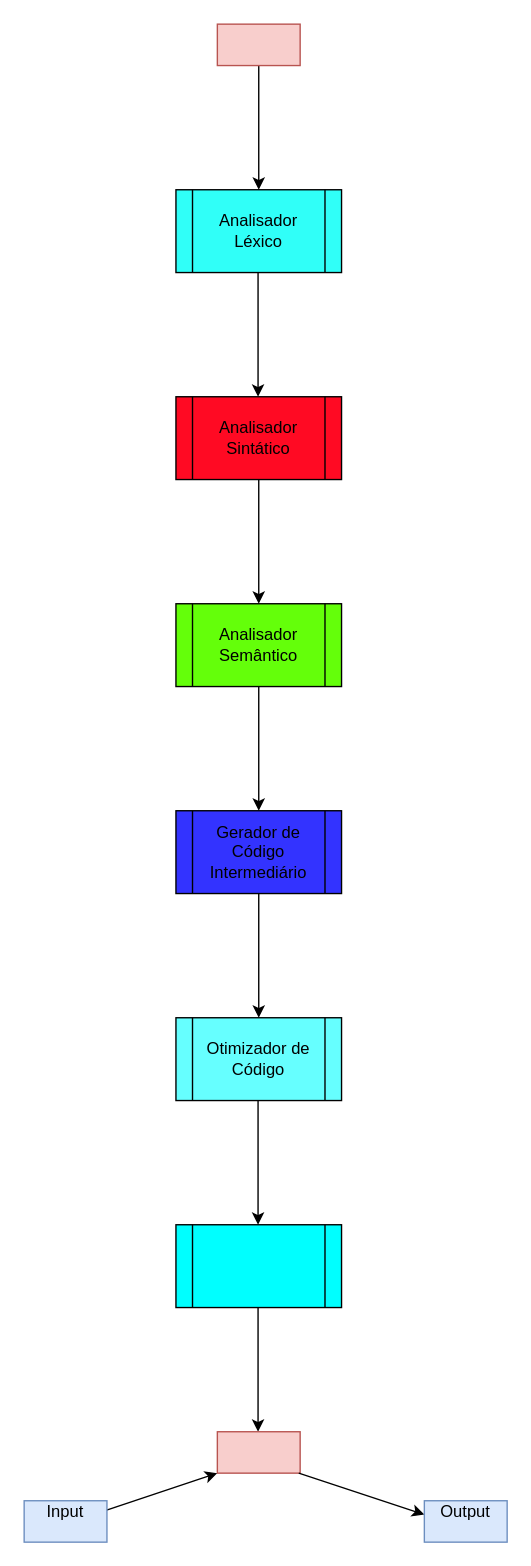
The diagram is 531 pixels wide and 1566 high, and some of its shapes have lost their labels. Here are the shapes that lost their labels. From the top down, the box of each, then its label:
(216, 23, 300, 66): Código fonte
(175, 1223, 342, 1308): Gerador de Código
(216, 1430, 300, 1473): Software
